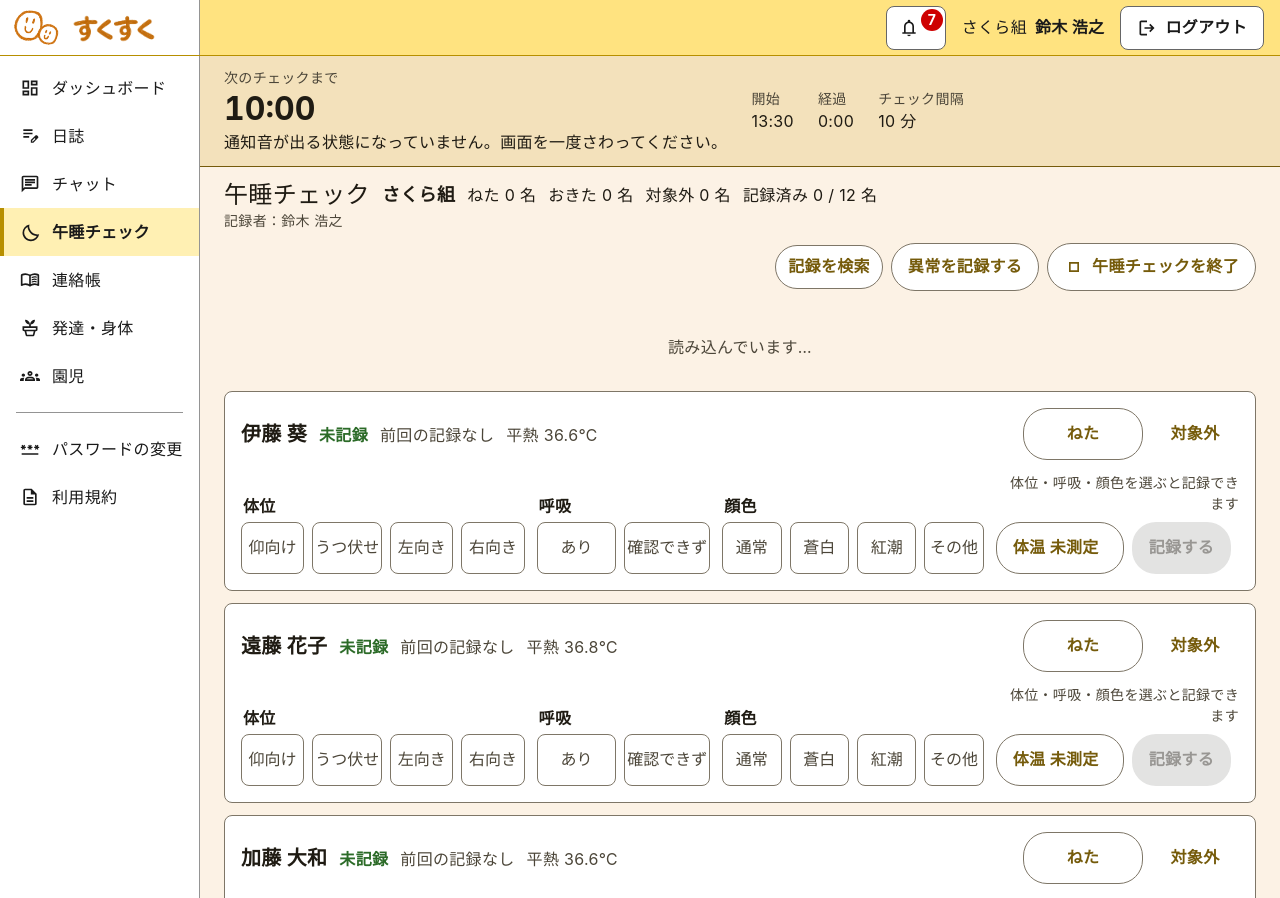
Test: 職員のログアウト：午睡チェックの実施中（04-025） › 同じクラスでも、ほかの職員が開始した実施ではログアウトを止めない（担当は開始した職員）
Expected: the button "午睡チェックを終了" is shown, [1047,243,1256,291]
Step 1. Click the button "ログアウト" → (1192, 28), box [1120,6,1264,50]
(page scrolled)
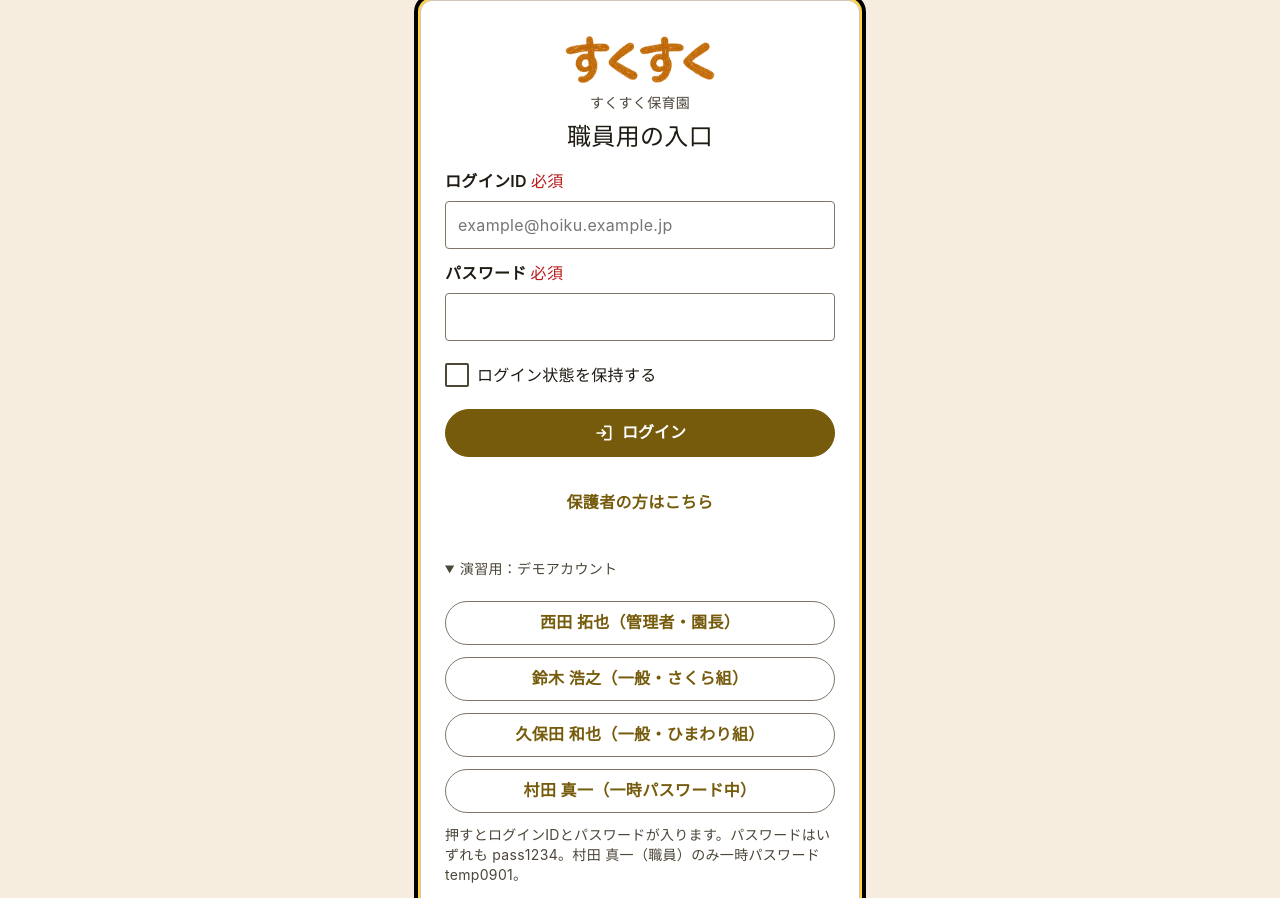
Result: the heading "職員用の入口" is shown at [567,122,713,151]
